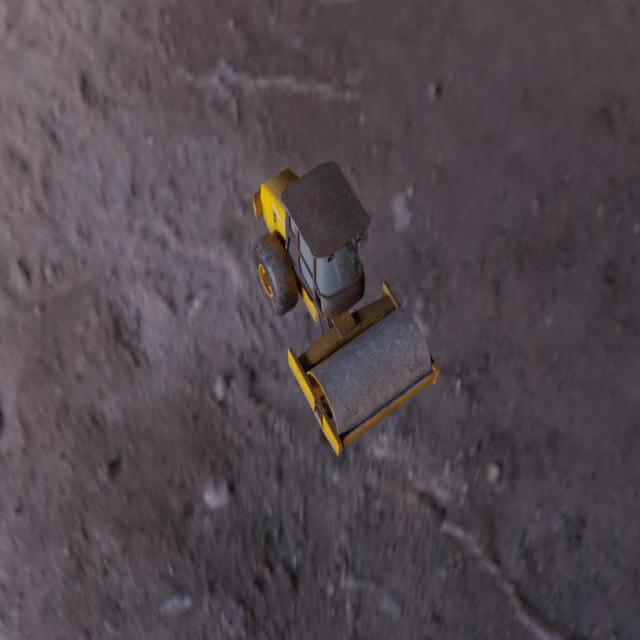Roller: (250, 161, 439, 456)
